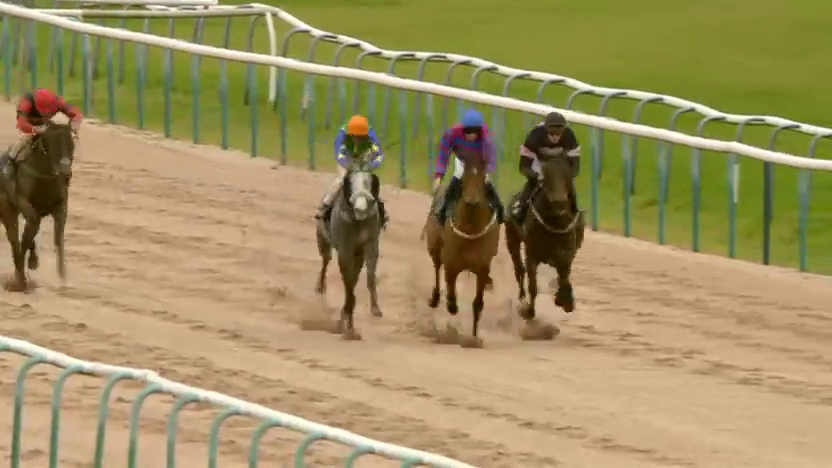jockey: (510, 113, 582, 226), (433, 113, 504, 225), (7, 92, 82, 179), (326, 118, 389, 217)
